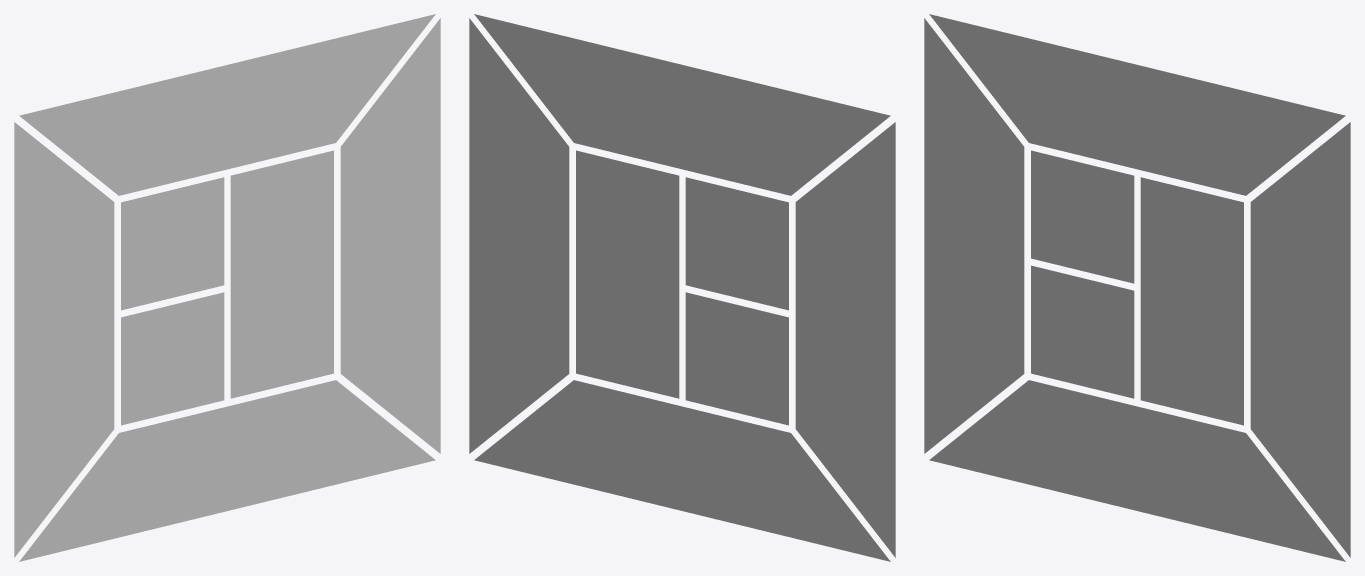
File: bravadacpn.gltf
3 renders of one model, left to right at view 1: azimuth 30°, elevation 25°; view 2: azimuth 150°, elevation 25°; view 3: azimuth 330°, elevation 25°, orthographic.
Visible parts, largest first — view 1: bravada; view 2: bravada; view 3: bravada.
Part boxes in pixels (<box>): bravada: <box>14,14,440,561</box>; bravada: <box>469,14,895,561</box>; bravada: <box>924,14,1350,561</box>.
Bounding box in the file's own units: 102 × 102 × 0.
7 materials, 7 textured.
